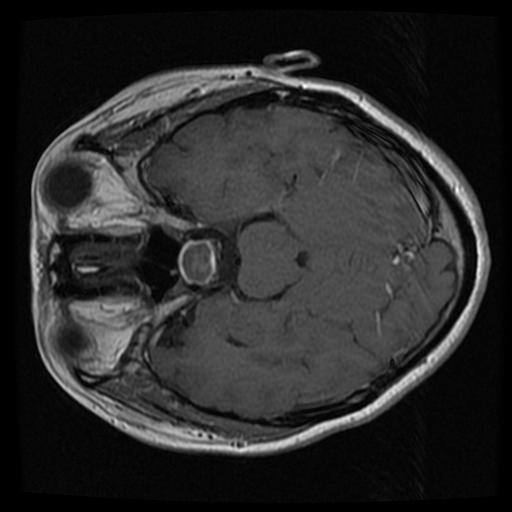pituitary tumour: (178, 240, 216, 285)
